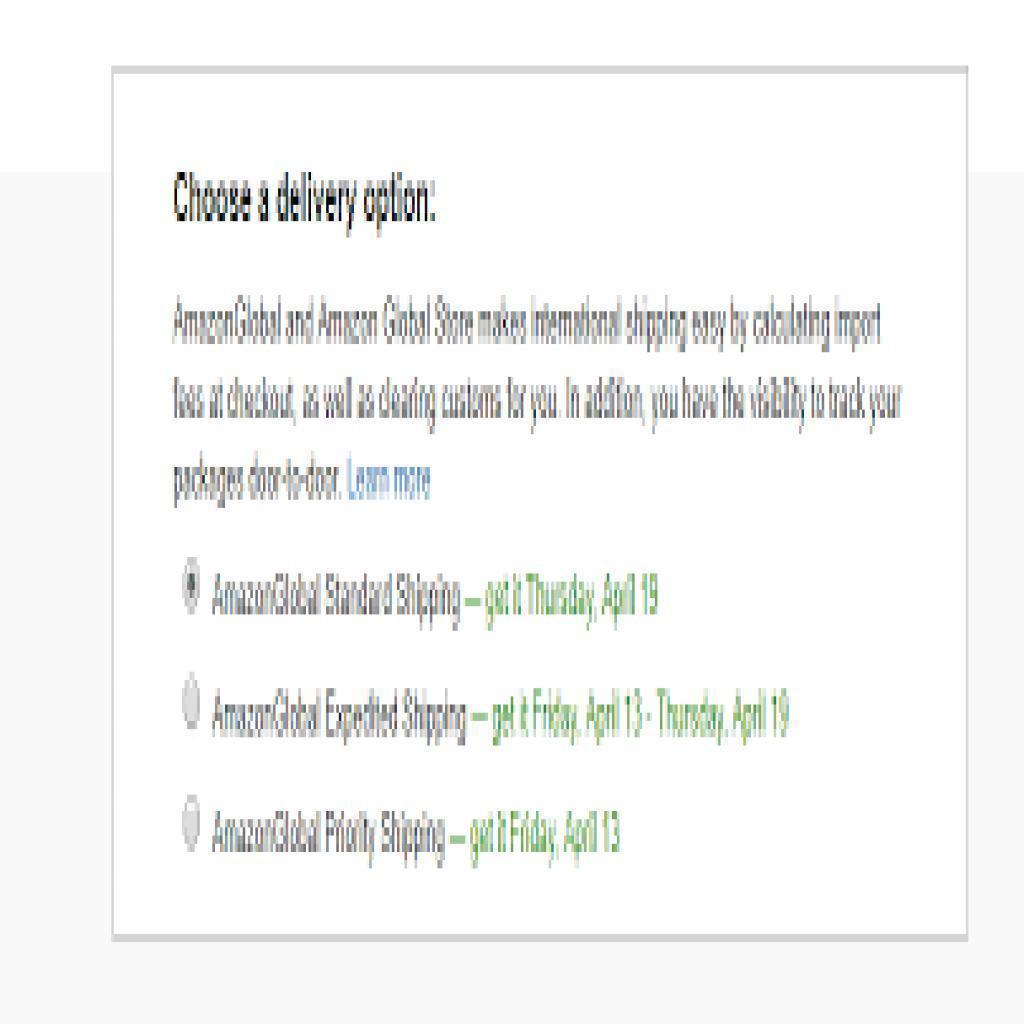radio: (181, 671, 203, 734), (180, 795, 202, 853), (182, 559, 203, 617)
